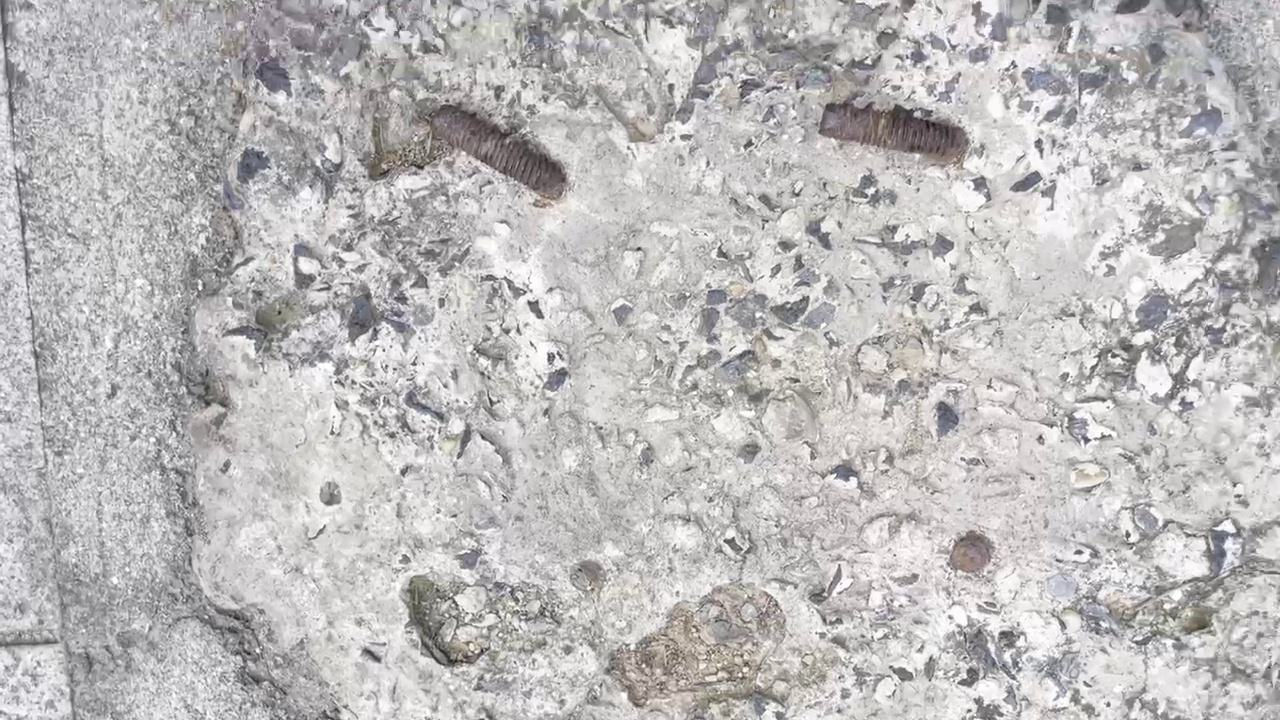Exposed reinforcement: (430, 102, 565, 201), (817, 101, 969, 161)
Spalling: (170, 1, 1280, 720), (602, 580, 787, 709), (404, 573, 488, 665)
